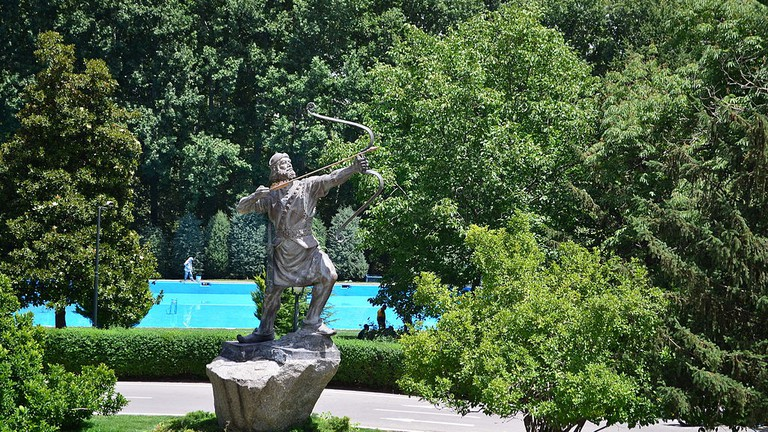person-like: (236, 142, 370, 340)
